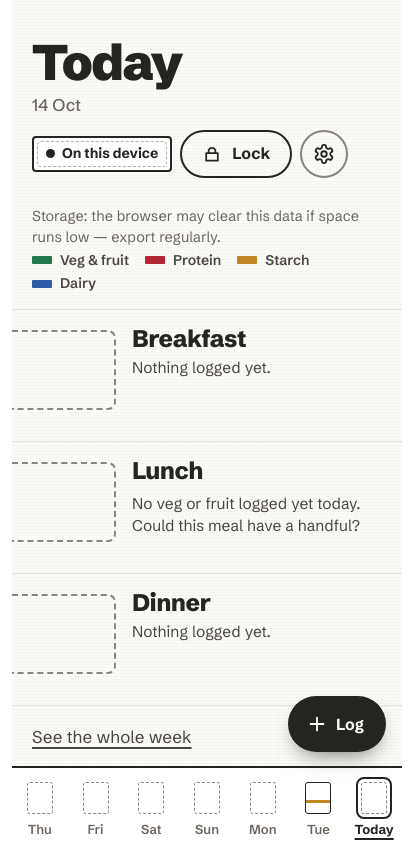
Test: TodayScreen: the day as a map › yesterday's plate is not on today's board, but is on yesterday's
Expected: the heading "Breakfast" is shown, [132,324,246,353]
Expected: the text "Yesterday pizza" is not shown
The dock's week route: the second-to-last stop is yesterday.
Click the button named "Tuesday, 1 of 4 groups": (318, 806) [291,768,346,843]
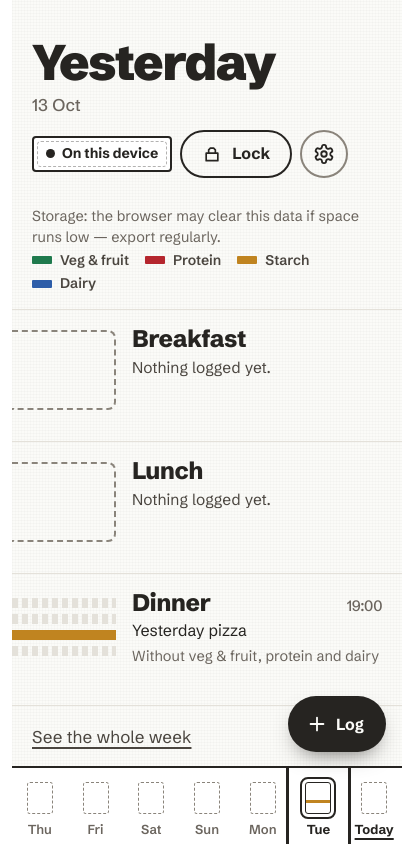
Expected: the heading "Yesterday" is shown, [32,40,275,85]
Expected: the text "Yesterday pizza" is shown, [132,620,247,640]
